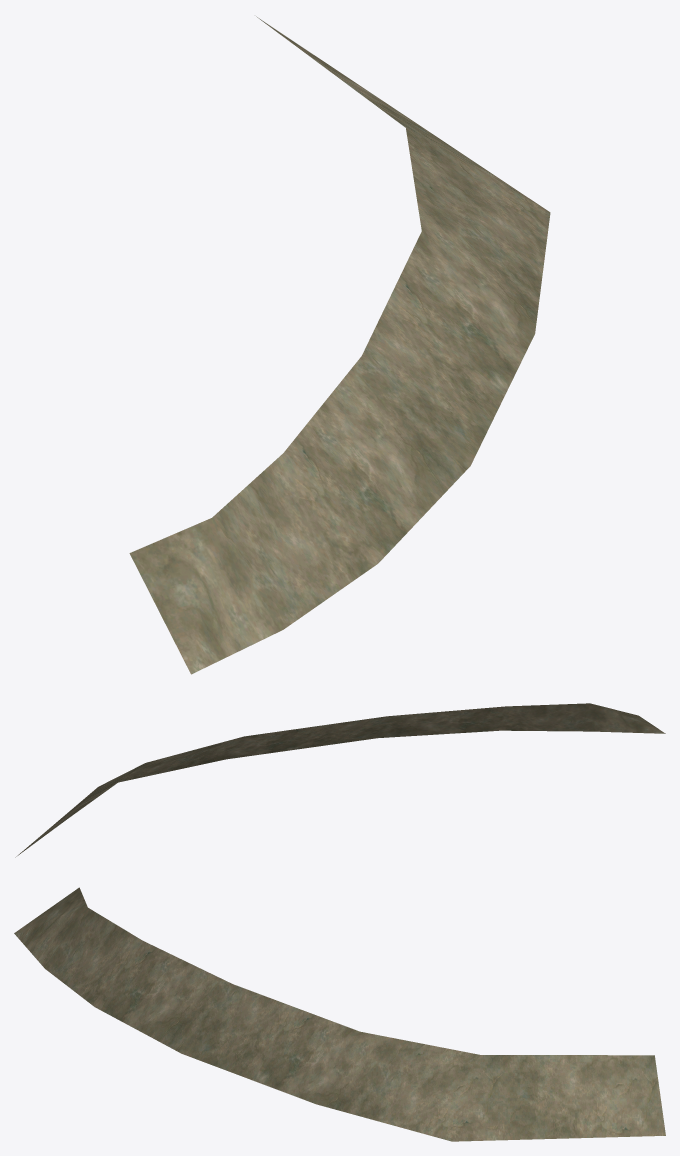
File: OVERHILL_A_01_OBJECT177.fbx
3 renders of one model, top to bottom at view 1: azimuth 30°, elevation 25°; view 2: azimuth 150°, elevation 25°; view 3: azimuth 270°, elevation 25°, orthographic. The views are drawn at different scales.
Parts seen in each view (by area): view 1: OVERHILL_A_01_OBJECT177; view 2: OVERHILL_A_01_OBJECT177; view 3: OVERHILL_A_01_OBJECT177.
Part boxes in pixels (bbox=[...]): OVERHILL_A_01_OBJECT177: bbox=[129, 16, 550, 674]; OVERHILL_A_01_OBJECT177: bbox=[15, 703, 665, 857]; OVERHILL_A_01_OBJECT177: bbox=[14, 887, 665, 1141].
Bounding box in the file's own units: 215482 × 26266 × 286964.
1 material, 1 textured.
